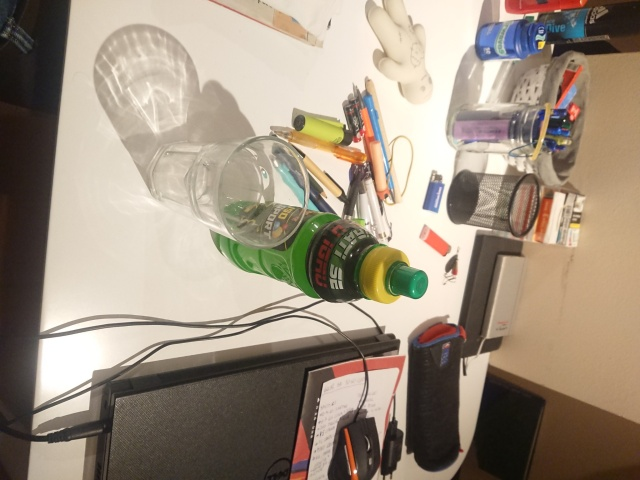Vindi Iso Sport Lemon-Grapefruit 500mL: (216, 198, 430, 306)
